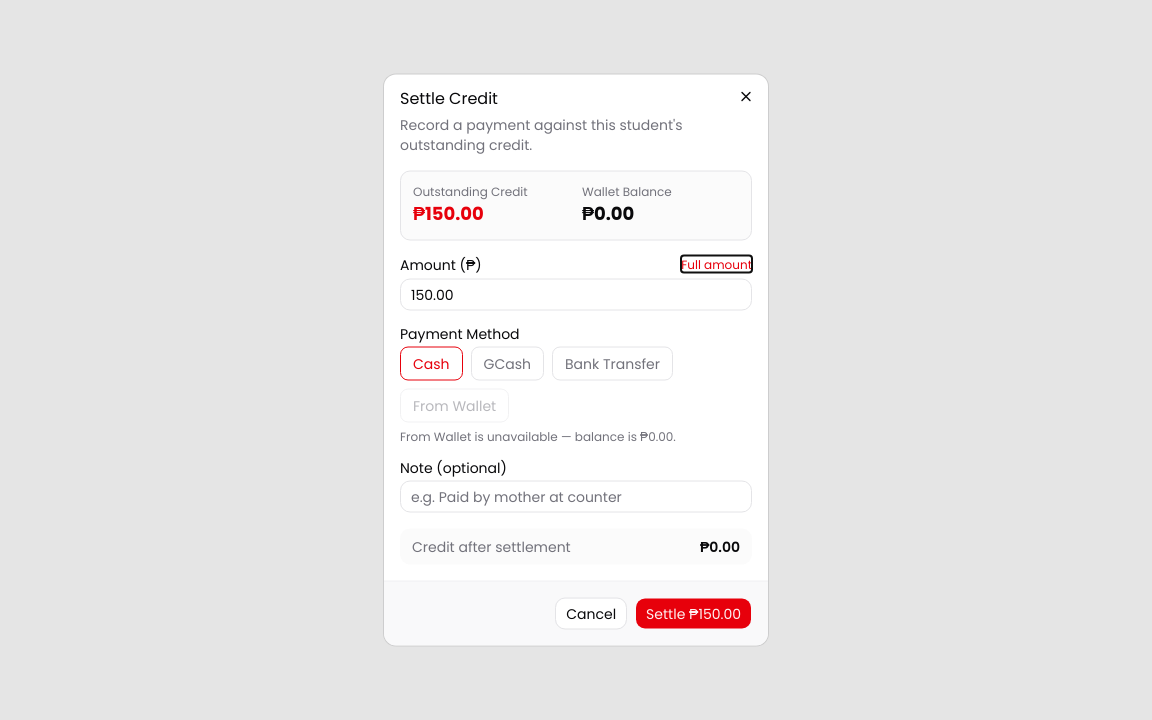
Test: SettleCreditDialog › surfaces an API error inline and keeps the dialog open
Click the button "Settle ₱150.00": (694, 614) [635, 598, 752, 630]
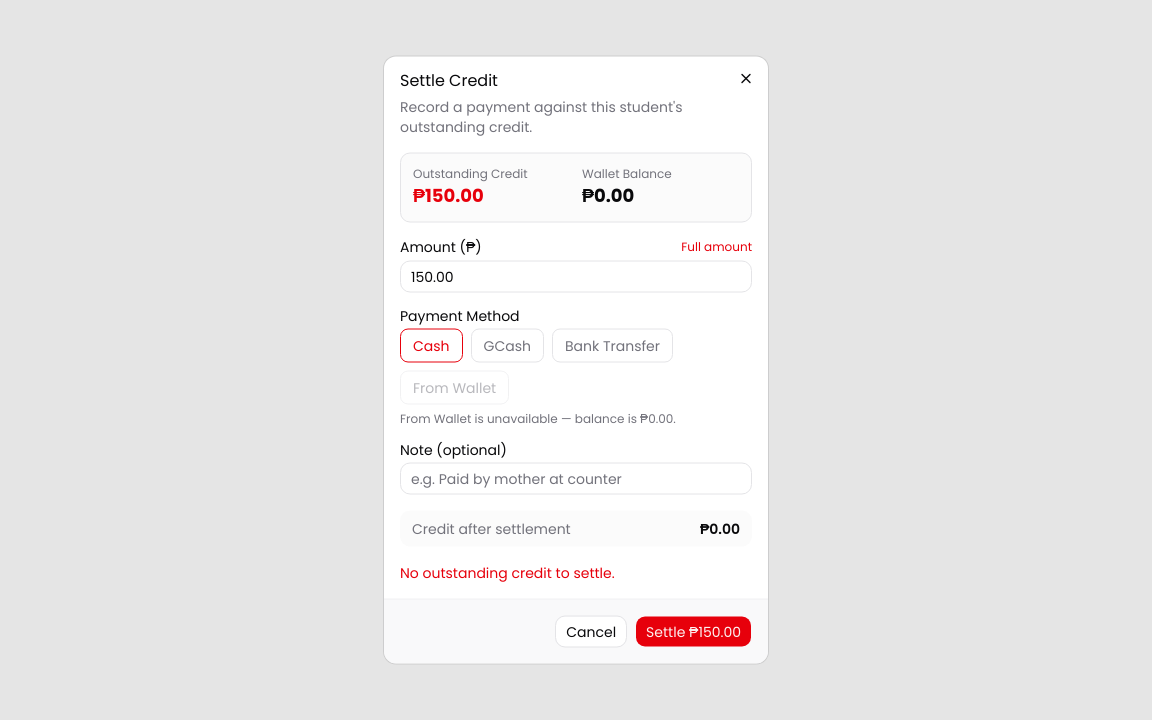
expect the text "No outstanding credit to settle." is shown: met, box [400, 562, 615, 582]
